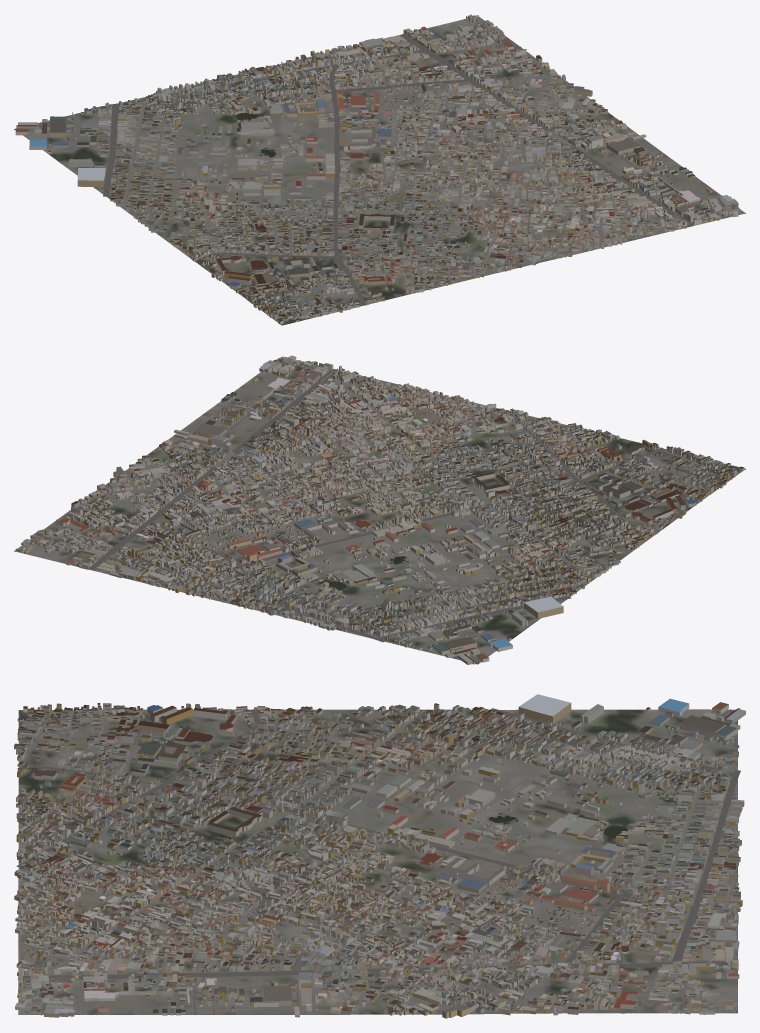
3 renders of one model, top to bottom at view 1: azimuth 30°, elevation 25°; view 2: azimuth 150°, elevation 25°; view 3: azimuth 270°, elevation 25°, orthographic. The views are drawn at different scales.
Visible parts, largest first — view 1: buildings, ground, roads; view 2: buildings, ground, roads; view 3: buildings, ground, roads.
Boxes of the visible parts, x1,y1,x2,y2 form: buildings: [15, 14, 740, 324]; ground: [14, 17, 745, 325]; roads: [28, 19, 731, 314]; buildings: [15, 355, 744, 664]; ground: [14, 356, 745, 664]; roads: [21, 367, 730, 662]; buildings: [14, 694, 745, 1018]; ground: [18, 709, 737, 1014]; roads: [16, 708, 740, 1014].
Bounding box in the file's own units: 1451 × 29.8 × 1425.
